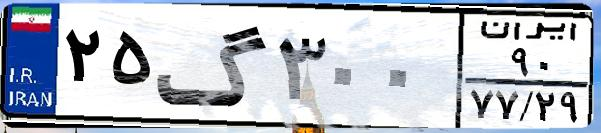0: (385, 28, 445, 110), (330, 28, 385, 110), (537, 27, 568, 80)
2: (57, 26, 110, 100), (535, 70, 560, 125)
3: (270, 28, 330, 110)
5: (110, 28, 156, 98)
7: (470, 70, 495, 125), (495, 70, 520, 125)
9: (560, 70, 590, 125), (508, 27, 537, 80)
گ: (156, 12, 270, 120)
